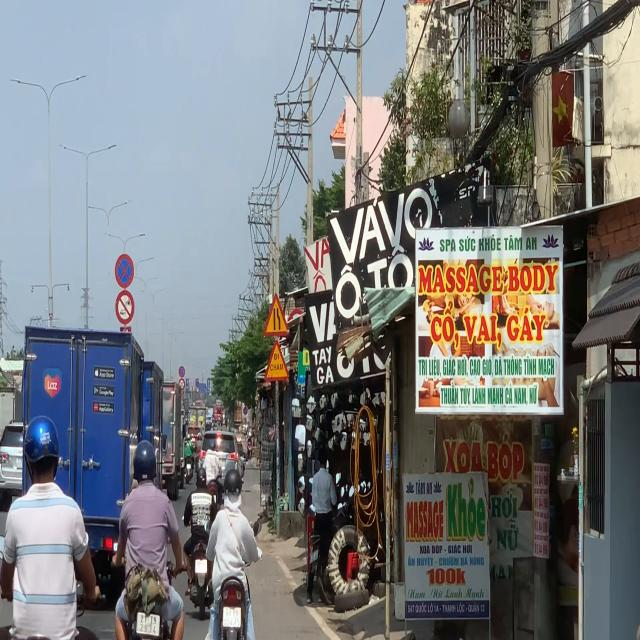Cam con lai: (115, 289, 134, 325)
Cam dung va do: (114, 252, 135, 291)
Nguy hiem: (263, 292, 290, 338)
